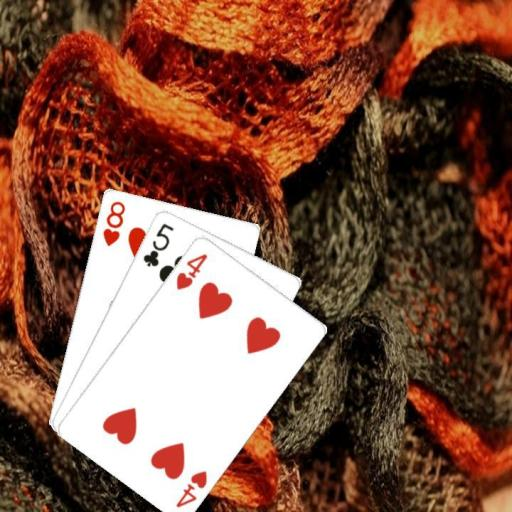4H: (172, 467, 209, 509), (173, 250, 209, 291)
5C: (139, 219, 175, 268)
8H: (100, 198, 127, 248)
